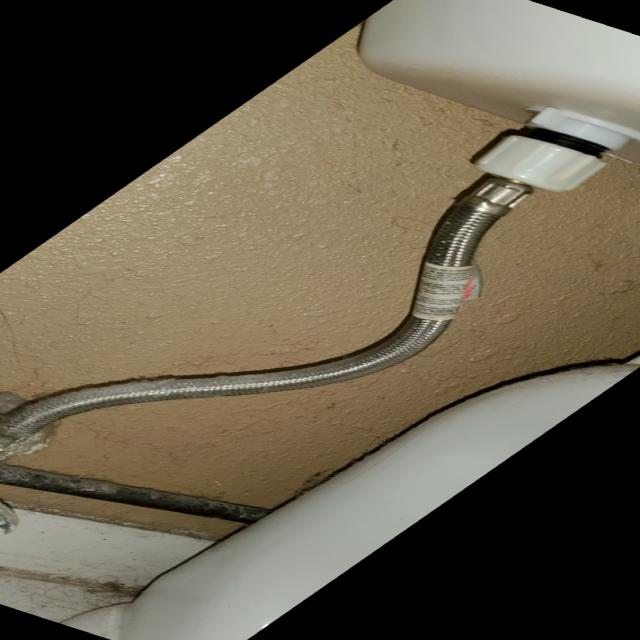bad_line: (0, 181, 515, 458)
good_coupler: (454, 123, 627, 203)
